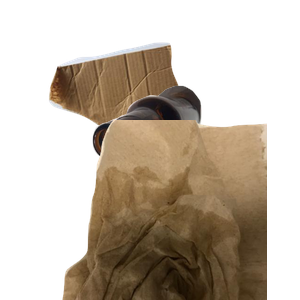cardboard: (46, 40, 226, 179)
glass: (90, 83, 300, 235)
plastic: (115, 176, 288, 300)
trash: (60, 120, 300, 300)
